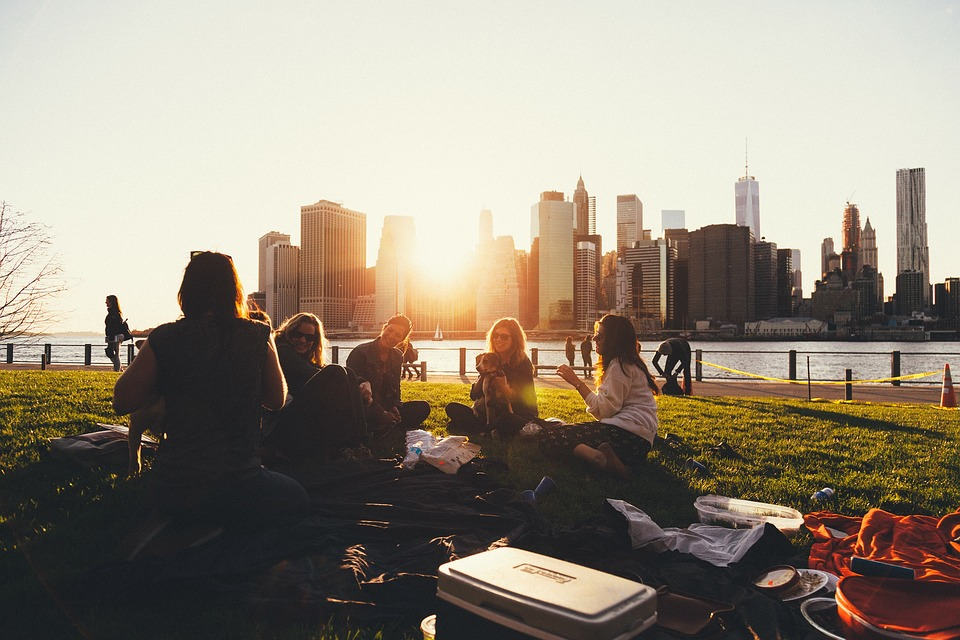person: (274, 321, 351, 453), (463, 319, 527, 458), (282, 337, 341, 427), (472, 332, 515, 429), (182, 247, 224, 321), (475, 341, 508, 414), (473, 352, 500, 438), (496, 333, 526, 410), (100, 293, 131, 367), (484, 340, 512, 400), (114, 307, 140, 367), (506, 342, 535, 394), (492, 336, 519, 390), (479, 341, 506, 393), (474, 347, 498, 405), (485, 400, 509, 452), (504, 338, 525, 392), (503, 408, 532, 447), (101, 318, 118, 370), (381, 381, 399, 430), (346, 365, 367, 406), (515, 340, 535, 382), (344, 553, 367, 588), (509, 339, 528, 381), (343, 366, 359, 414), (591, 338, 609, 380), (354, 374, 371, 415), (358, 375, 375, 415), (362, 369, 377, 412), (487, 411, 505, 446), (580, 337, 595, 378), (588, 339, 603, 380), (654, 348, 672, 381), (576, 336, 590, 378), (391, 385, 405, 427), (566, 338, 580, 377), (366, 374, 380, 413), (481, 415, 498, 447), (596, 341, 611, 377), (657, 359, 673, 392), (652, 351, 667, 386), (652, 360, 667, 395), (572, 336, 585, 376), (563, 335, 577, 372), (377, 361, 391, 398), (375, 397, 390, 431), (585, 339, 598, 378), (395, 366, 408, 404), (527, 343, 541, 378), (550, 351, 563, 388), (558, 336, 571, 372), (392, 351, 405, 387), (674, 349, 688, 382), (515, 339, 529, 372), (464, 440, 479, 470), (465, 452, 480, 481), (555, 338, 567, 373), (385, 398, 399, 428), (530, 341, 543, 373), (388, 357, 400, 391), (397, 359, 410, 390), (403, 346, 416, 377), (151, 426, 169, 448), (574, 350, 585, 386), (670, 356, 683, 386), (406, 356, 419, 385), (390, 350, 402, 381), (409, 361, 422, 389), (675, 363, 687, 393), (466, 451, 482, 473), (400, 355, 412, 384), (414, 358, 426, 386), (812, 492, 828, 513), (671, 369, 683, 396), (389, 334, 401, 361), (396, 448, 410, 471), (467, 439, 481, 462), (399, 345, 410, 374), (583, 332, 594, 361), (411, 358, 423, 384), (403, 337, 414, 365), (400, 443, 414, 464), (408, 443, 421, 465), (407, 448, 420, 470), (386, 448, 398, 471), (390, 447, 403, 468), (414, 440, 427, 461), (556, 334, 566, 361), (392, 450, 404, 472), (690, 364, 700, 390), (687, 360, 697, 385), (693, 357, 703, 382), (411, 352, 421, 376), (425, 322, 435, 345), (684, 370, 693, 394), (432, 322, 442, 343), (675, 370, 684, 391), (470, 489, 483, 503), (689, 360, 697, 380), (684, 359, 691, 379)
